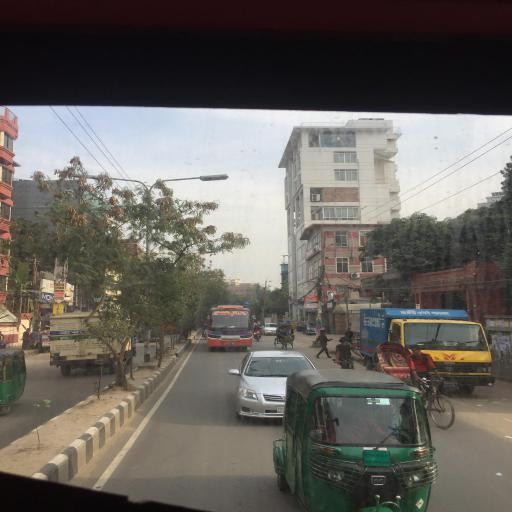bicycle: (333, 357, 360, 371)
bus: (208, 308, 254, 349)
car: (235, 350, 317, 424), (303, 323, 324, 335), (262, 324, 279, 336)
motorbike: (254, 330, 263, 343), (202, 330, 209, 341)
pickup: (361, 308, 494, 388), (50, 314, 137, 372)
rickshaw: (372, 341, 458, 430), (275, 328, 295, 351)
three wheelers (CNG): (274, 369, 440, 512), (1, 349, 29, 418)
